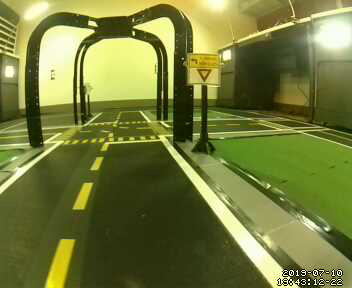Turn Yield: (186, 52, 222, 86)
